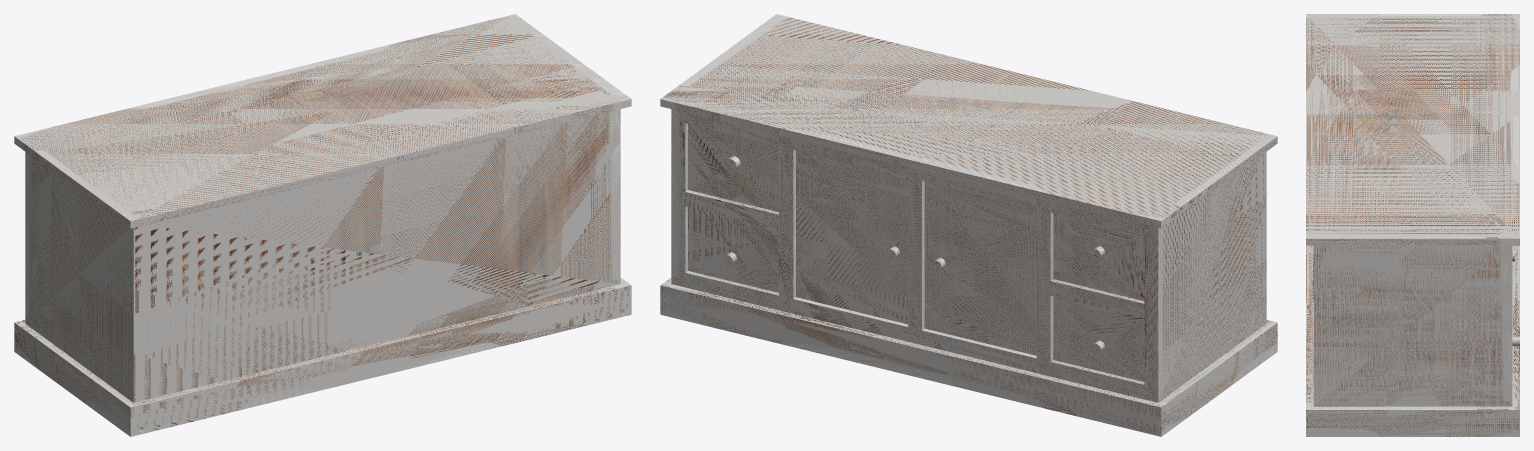
The picture shows the model from 3 angles, left to right: view 1: azimuth 30°, elevation 25°; view 2: azimuth 150°, elevation 25°; view 3: azimuth 270°, elevation 25°; orthographic projection. The views are drawn at different scales.
Parts seen in each view (by area): view 1: mesh1_mesh1-geometry; view 2: mesh1_mesh1-geometry; view 3: mesh1_mesh1-geometry.
Boxes of the visible parts, box(x1,y1,x2,y2) form: mesh1_mesh1-geometry: box(14, 14, 631, 436); mesh1_mesh1-geometry: box(660, 14, 1277, 436); mesh1_mesh1-geometry: box(1306, 14, 1519, 436).
Size of the model in its own units: 0.8669 by 0.3565 by 0.3484.
